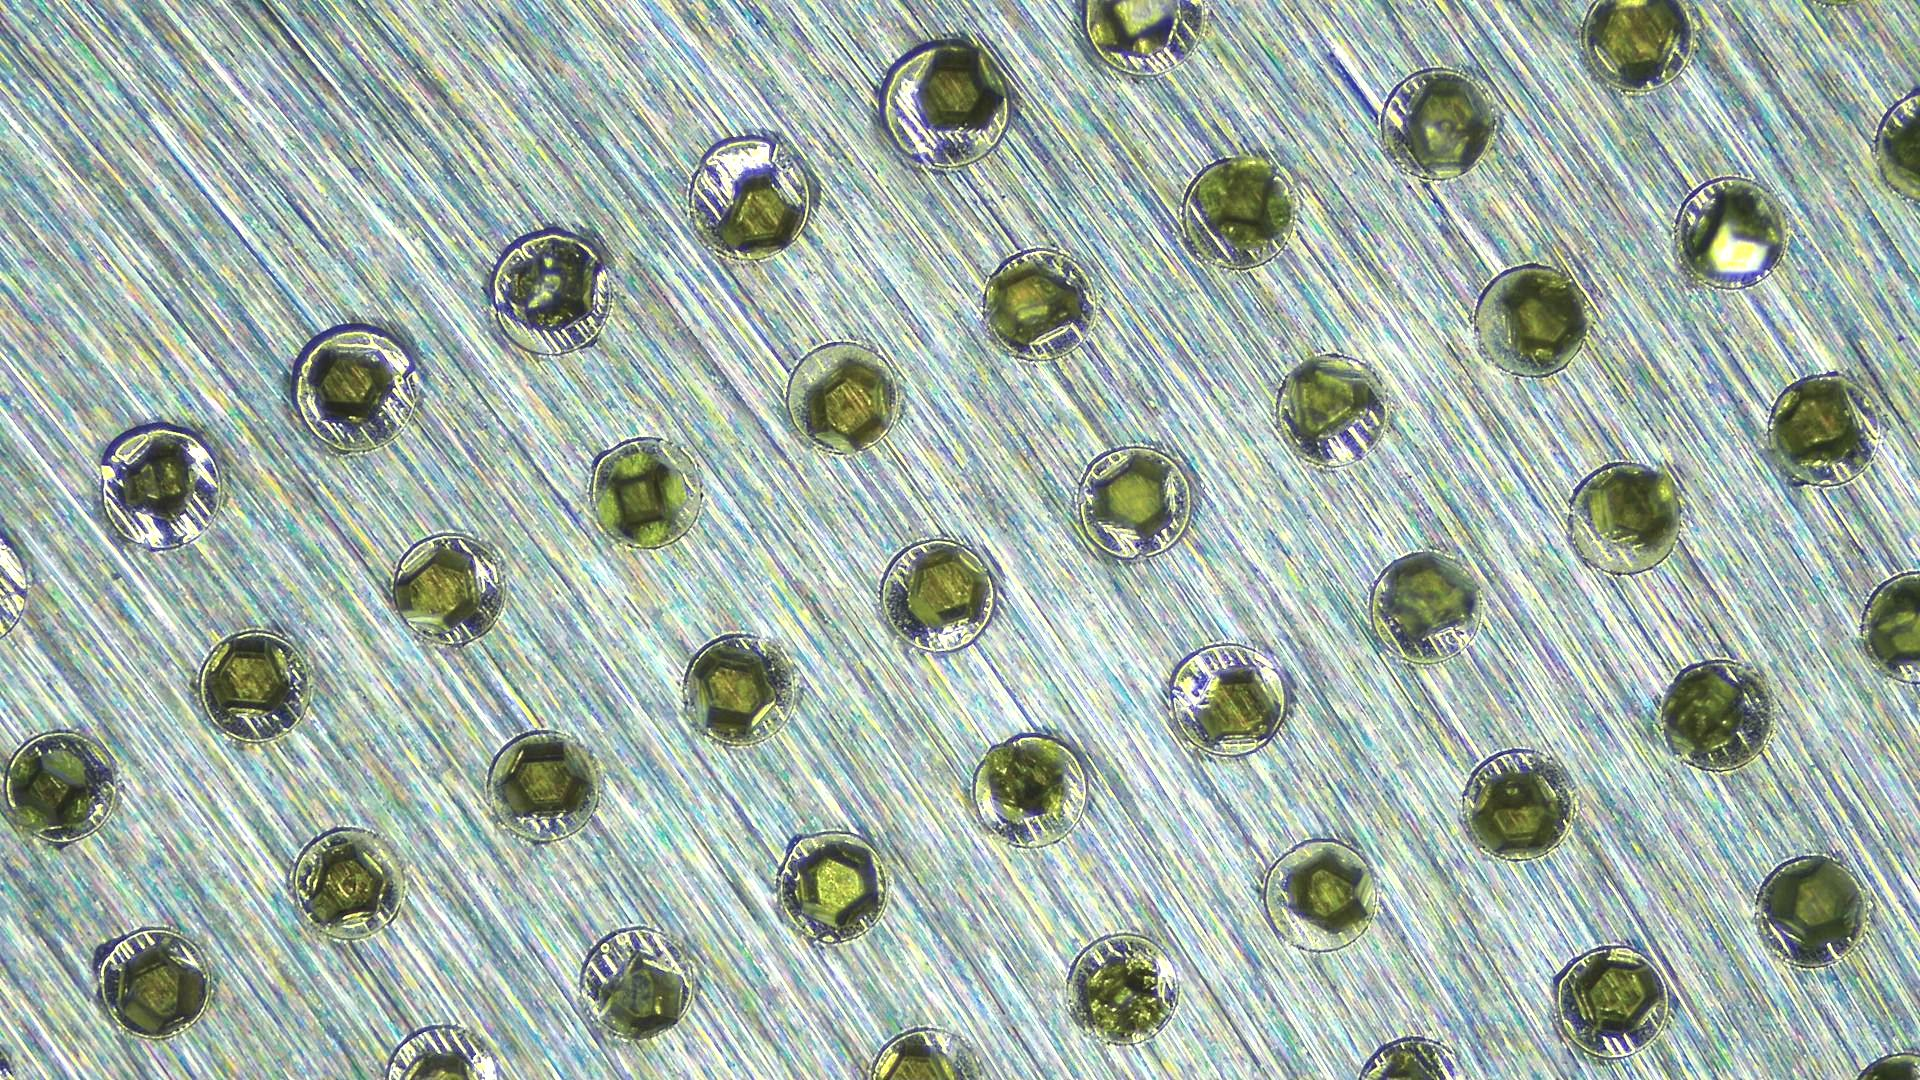break: (484, 233, 612, 361)
fault: (1060, 924, 1189, 1054), (963, 727, 1091, 855)
